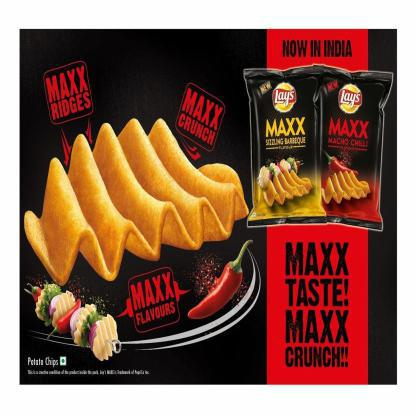max_chili: (321, 71, 384, 226)
maxx_sizzling_barbeque: (246, 71, 320, 221)
